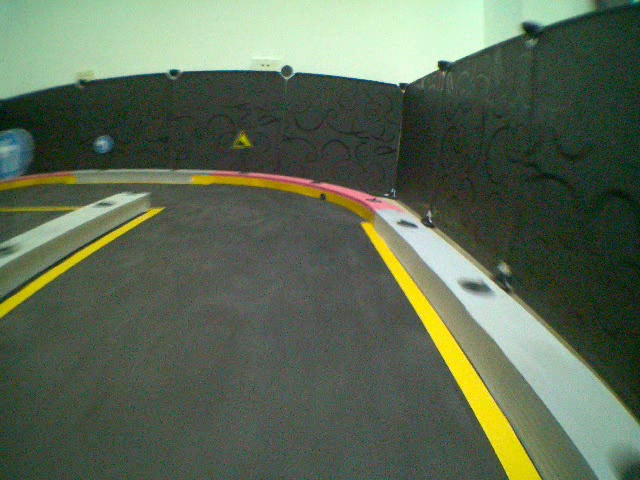fast: (229, 131, 254, 150)
turn: (91, 134, 114, 155)
